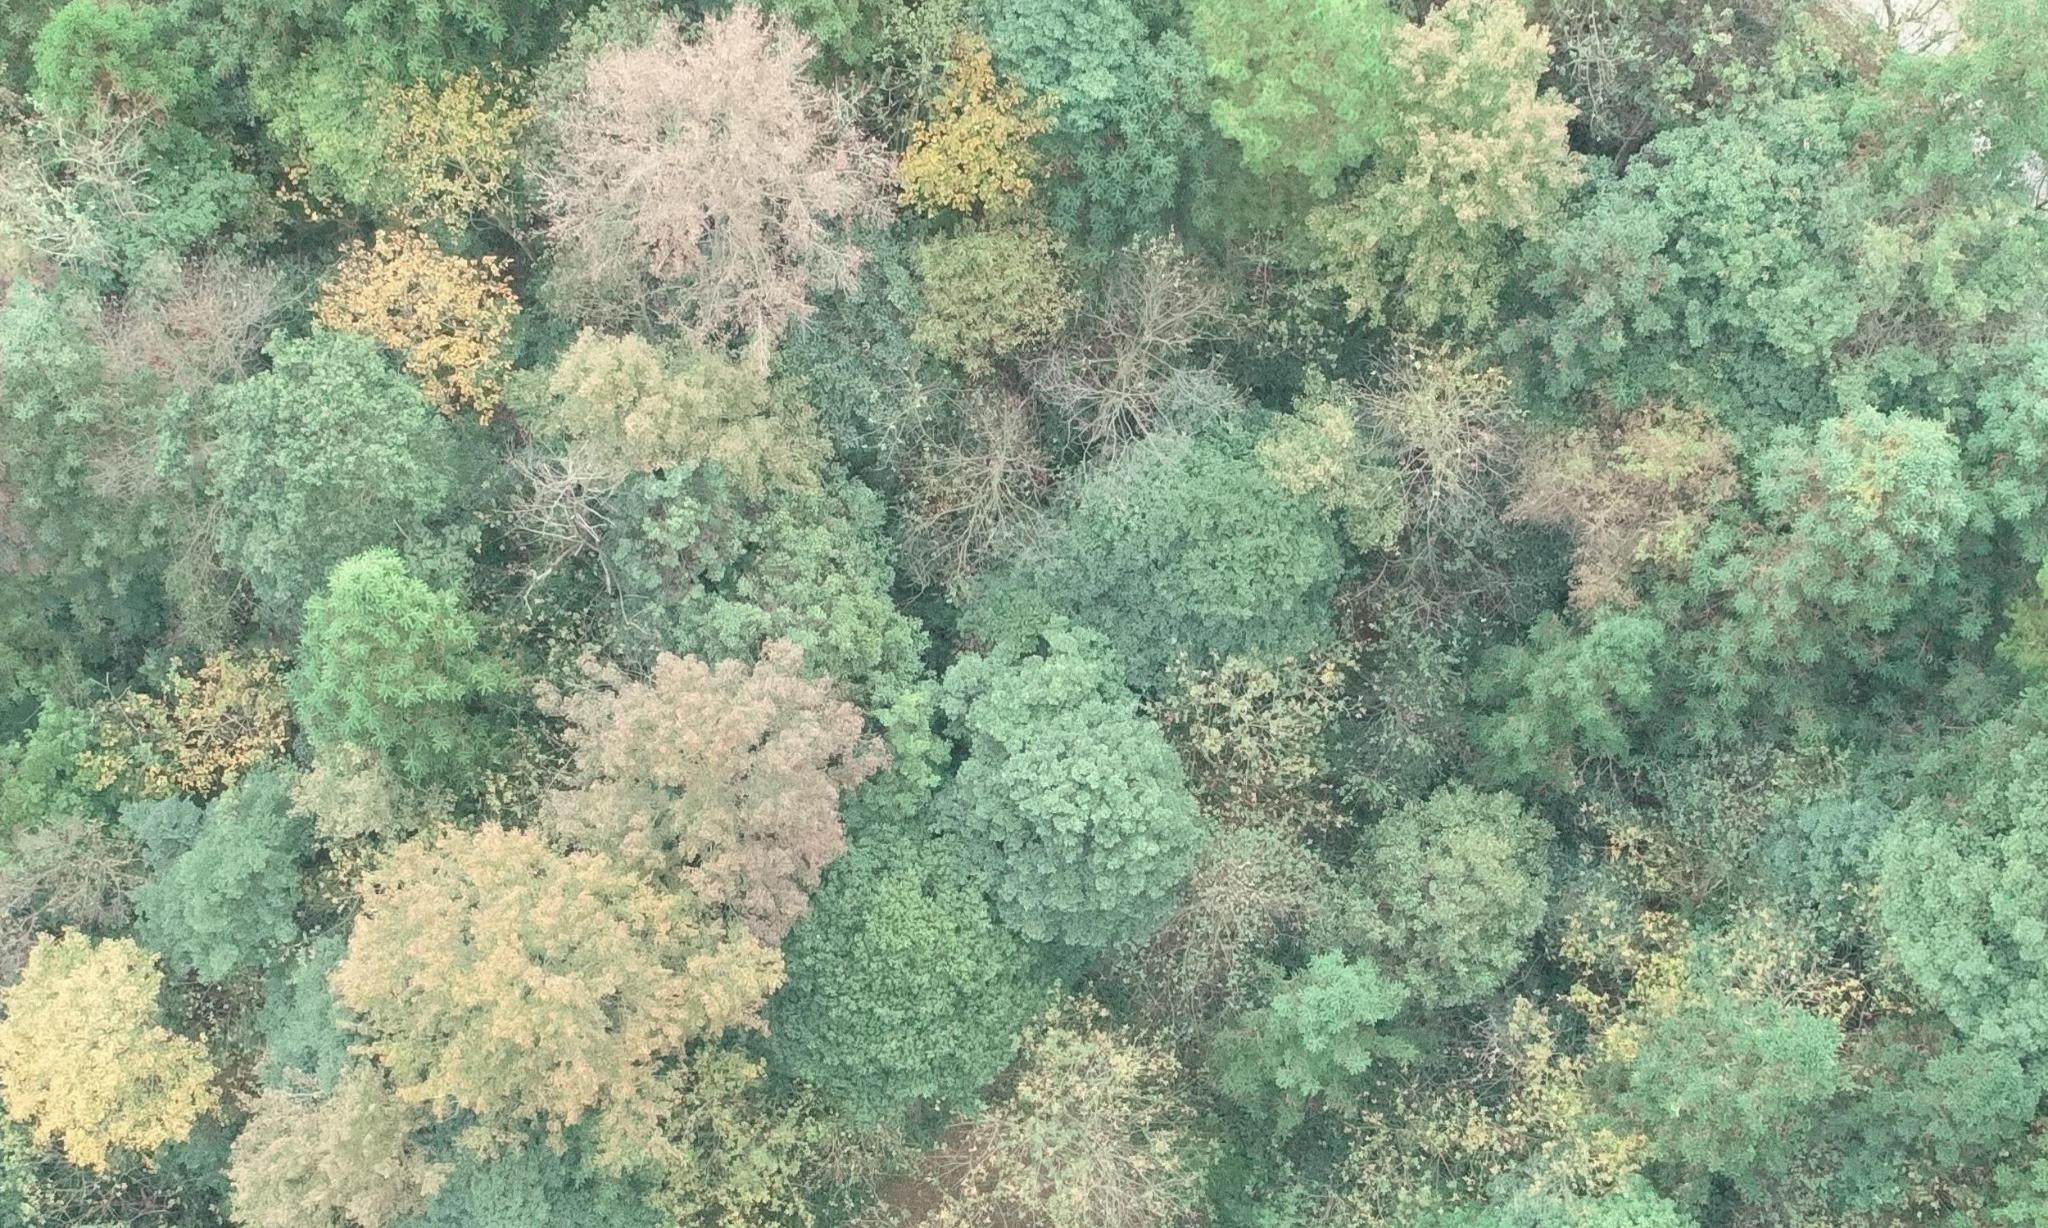dead: (523, 0, 927, 358), (6, 73, 325, 409), (1304, 346, 1602, 645), (943, 982, 1264, 1228), (890, 387, 1069, 610), (1028, 243, 1244, 373), (466, 452, 639, 607)
heavy: (525, 642, 911, 958)
